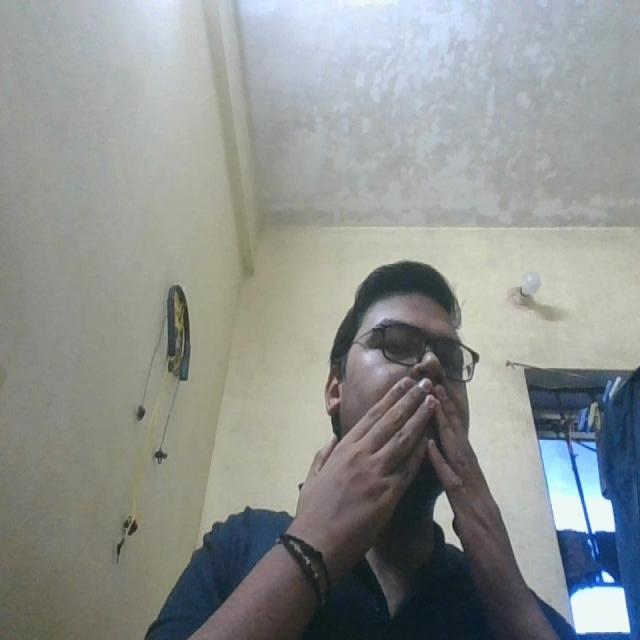Thanks: (298, 362, 521, 616)
